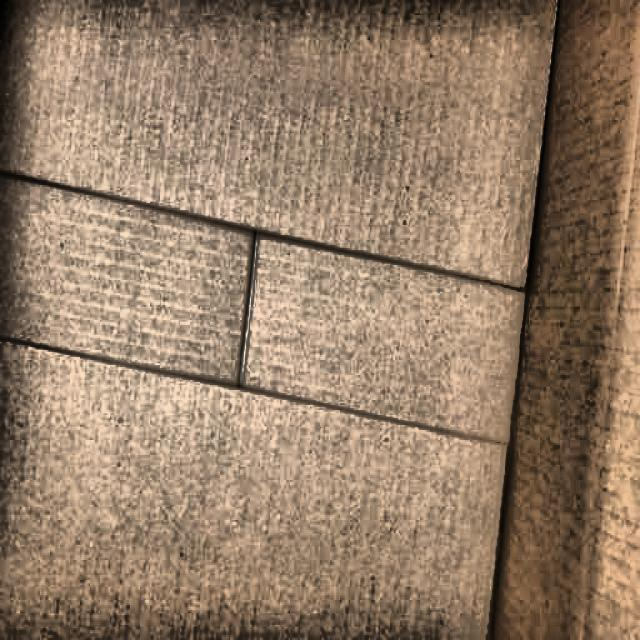cardboard: (2, 10, 636, 632)
